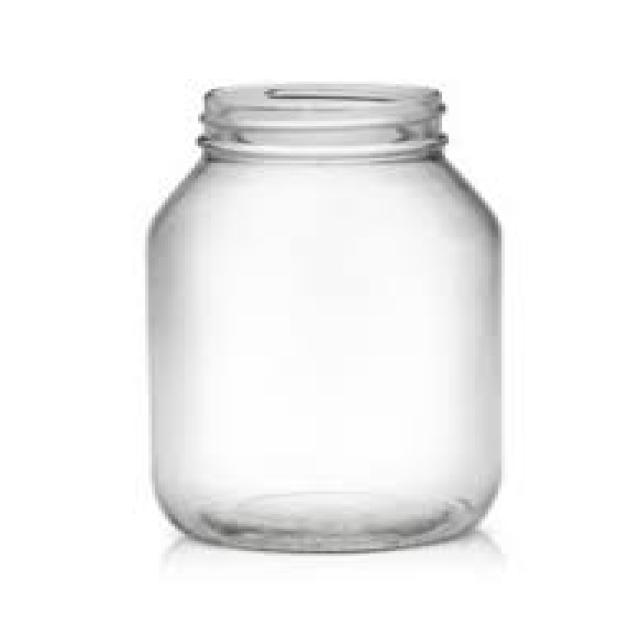glass: (142, 84, 498, 551)
